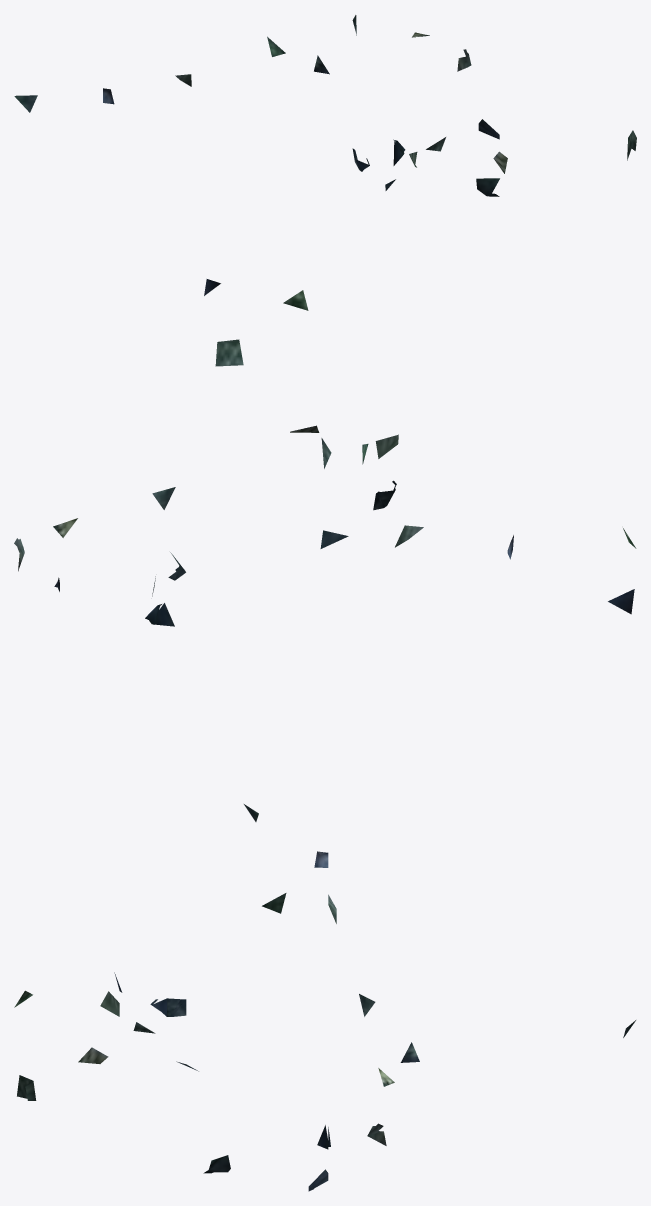
3 renders of one model, top to bottom at view 1: azimuth 30°, elevation 25°; view 2: azimuth 150°, elevation 25°; view 3: azimuth 270°, elevation 25°, orthographic. The views are drawn at different scales.
Parts seen in each view (by area): view 1: 30436272704361434605_1; view 2: 30436272704361434605_1; view 3: 30436272704361434605_1.
Boxes of the visible parts, x1=… form: 30436272704361434605_1: x1=14, y1=15, x2=636, y2=310; 30436272704361434605_1: x1=14, y1=339, x2=636, y2=821; 30436272704361434605_1: x1=14, y1=851, x2=635, y2=1191.
Size of the model in its own units: 25.62 by 11.25 by 34.55.
Materials: 1 (1 with a texture image).
